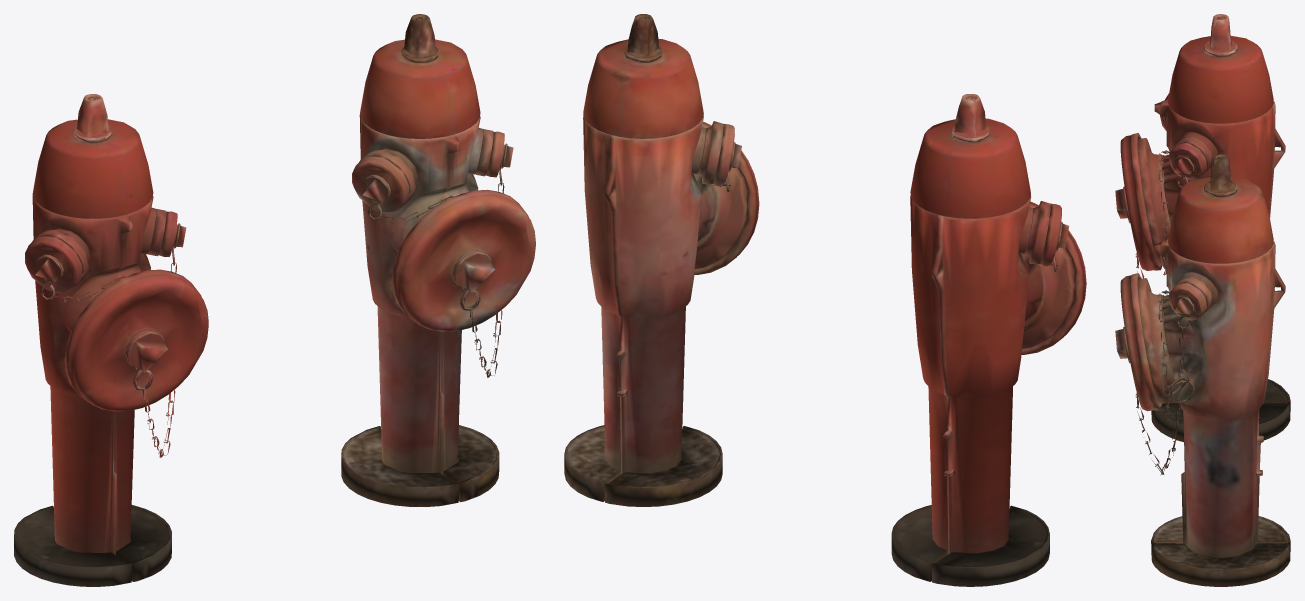
Rendered from fire_hydrant.glb.
3 renders of one model, left to right at view 1: azimuth 30°, elevation 25°; view 2: azimuth 150°, elevation 25°; view 3: azimuth 270°, elevation 25°, orthographic. The views are drawn at different scales.
Parts seen in each view (by area): view 1: fire_hydrant, fire_hydrant_aged; view 2: fire_hydrant_aged, fire_hydrant; view 3: fire_hydrant_aged, fire_hydrant.
Boxes of the visible parts, left/top/right/bottom form: fire_hydrant: left=14, top=94, right=208, bottom=586; fire_hydrant_aged: left=341, top=14, right=535, bottom=506; fire_hydrant_aged: left=564, top=14, right=759, bottom=506; fire_hydrant: left=891, top=94, right=1086, bottom=586; fire_hydrant_aged: left=1115, top=154, right=1290, bottom=586; fire_hydrant: left=1115, top=14, right=1290, bottom=441.
Bounding box in the file's own units: 0.8745 × 0.7994 × 0.3173.
Materials: 2 (2 with a texture image).
